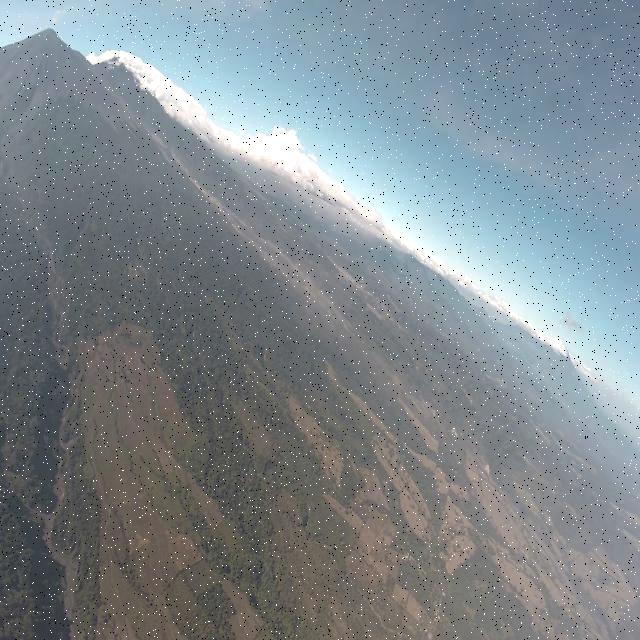Summit: (40, 26, 58, 36)
